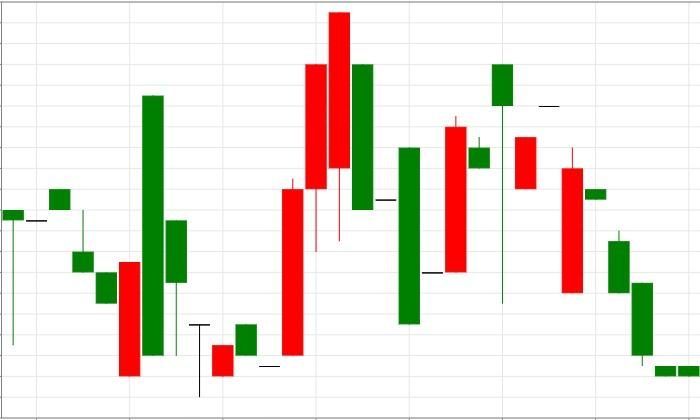bullish_engulfing_rise: (49, 189, 141, 377)
hanging_man_fall: (398, 63, 514, 325)
